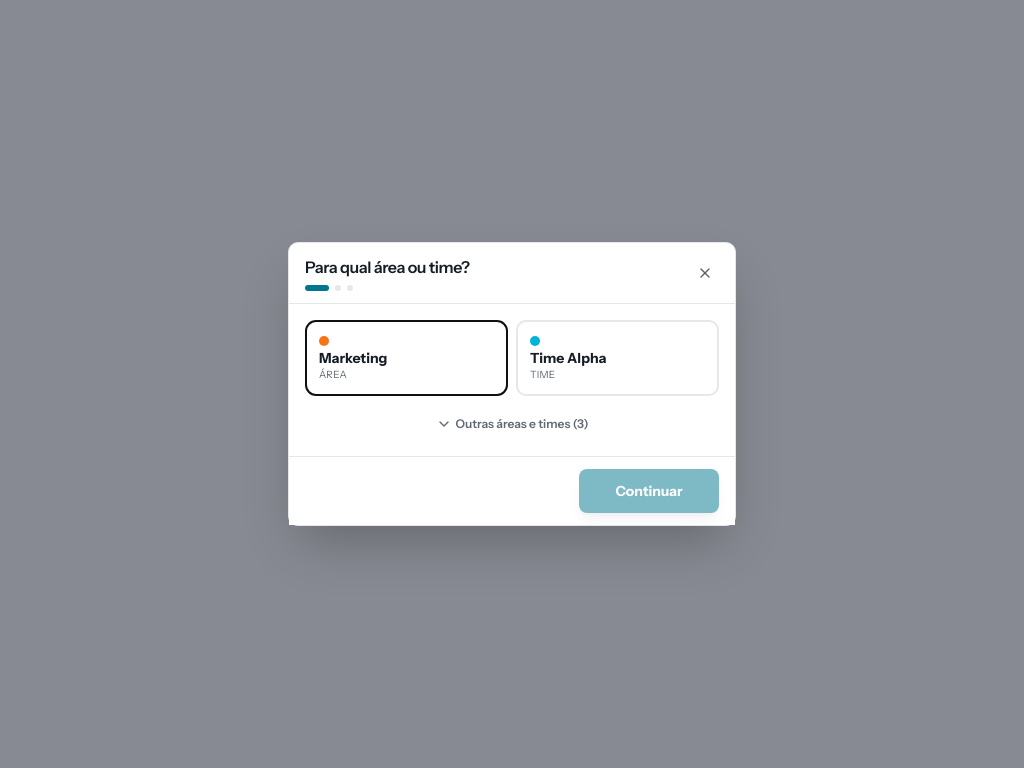
it: enviar uma demanda para si › dá para voltar e trocar a área
Click the button "Marketing Área" at (406, 358), box [305,320,508,396]
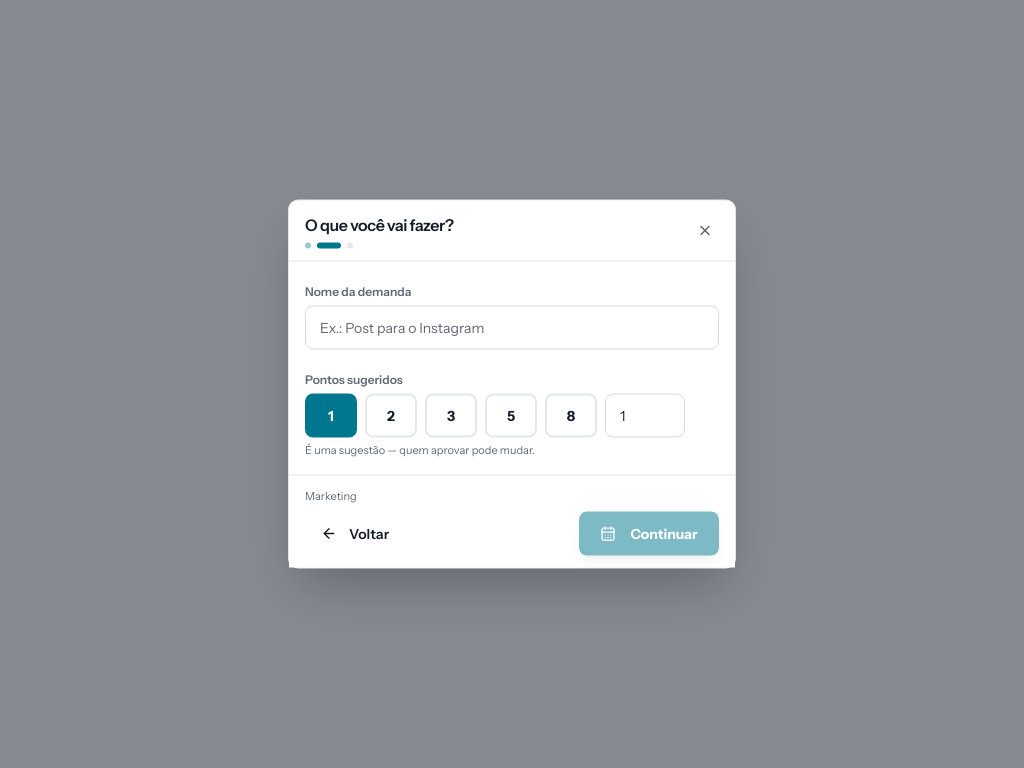
Click the button "Voltar" at (355, 534), box [305,514,405,554]
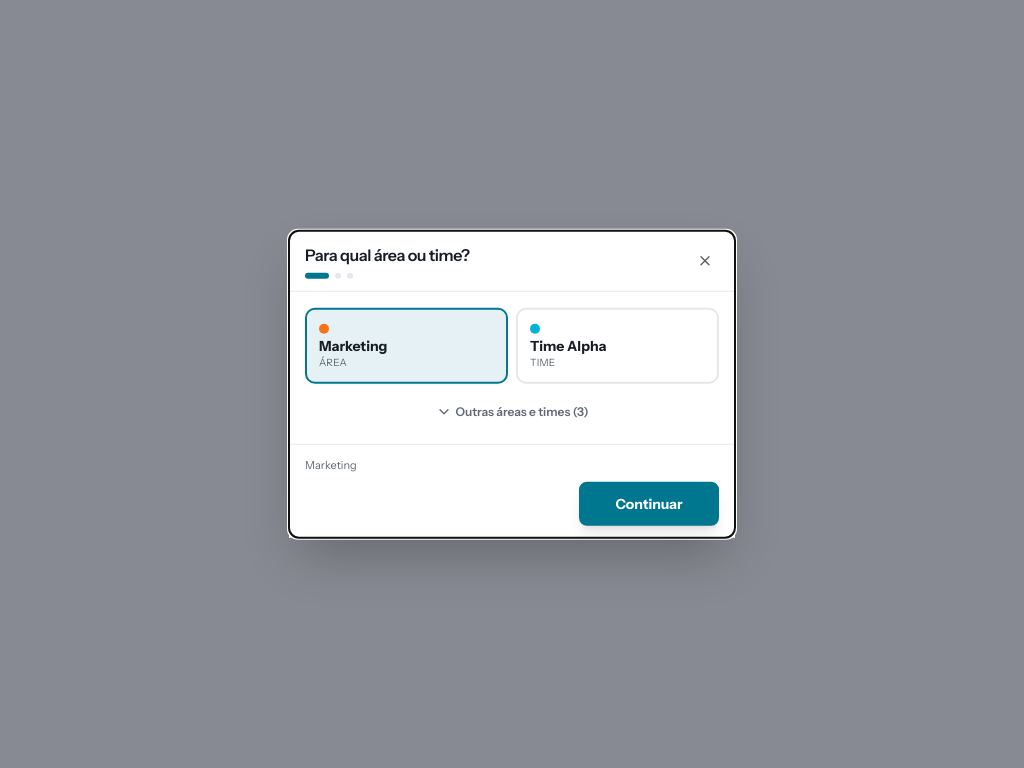
Expected: the heading "Para qual área ou time?" is shown, [305,245,470,265]
